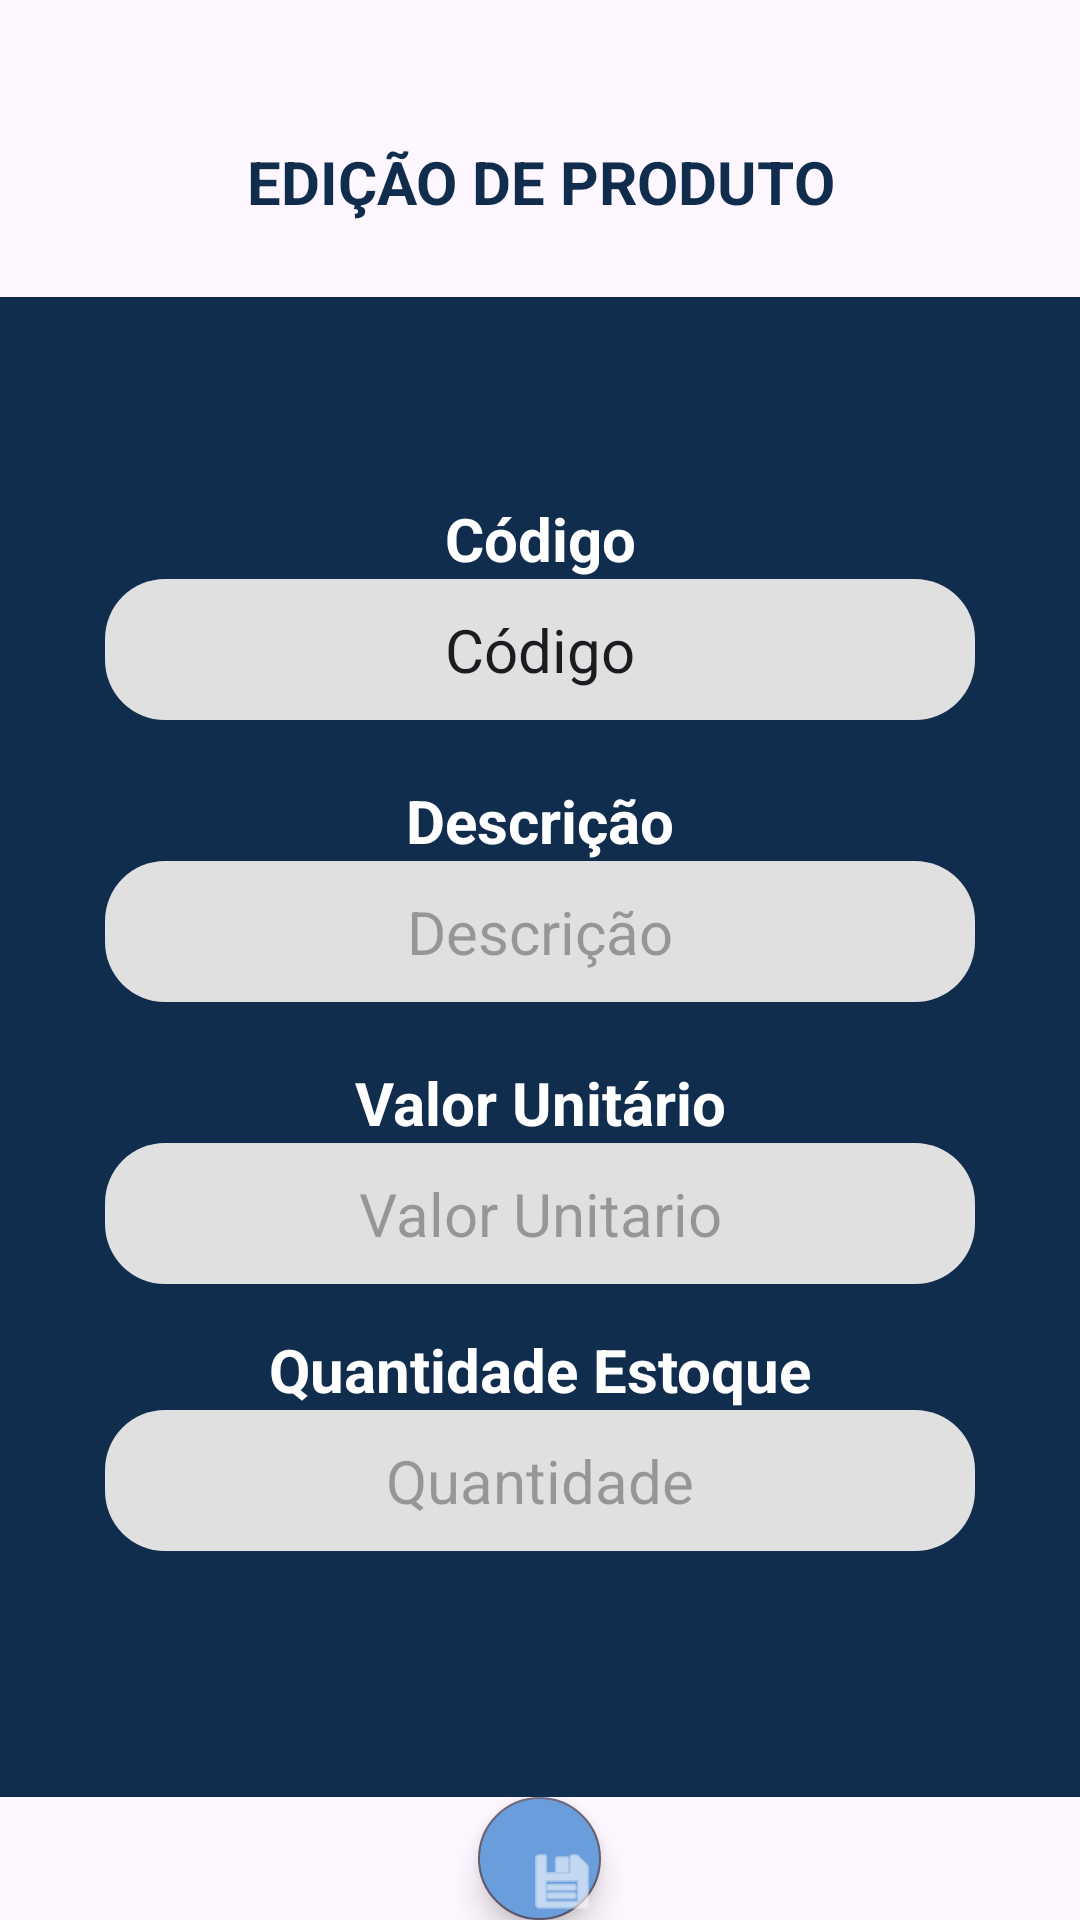

Where to tap for icons on this 1080×1920 app screen, as (x=x, y=y):
save: (x=539, y=1858)
